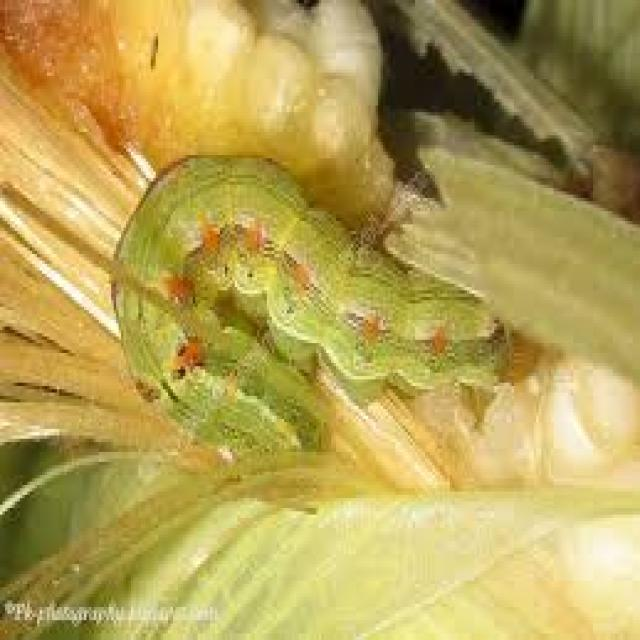worm: (110, 149, 513, 486)
